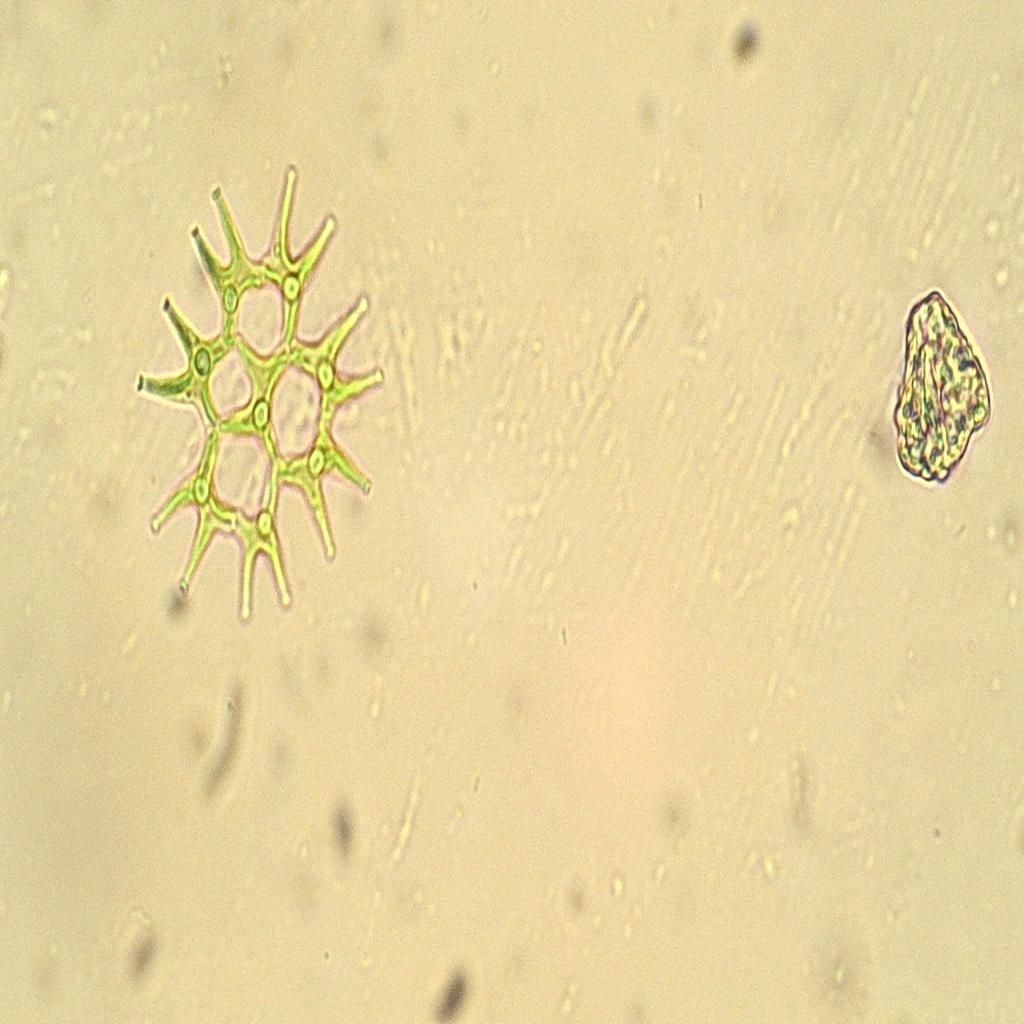Pediastrum_CTH: (120, 141, 394, 638)
